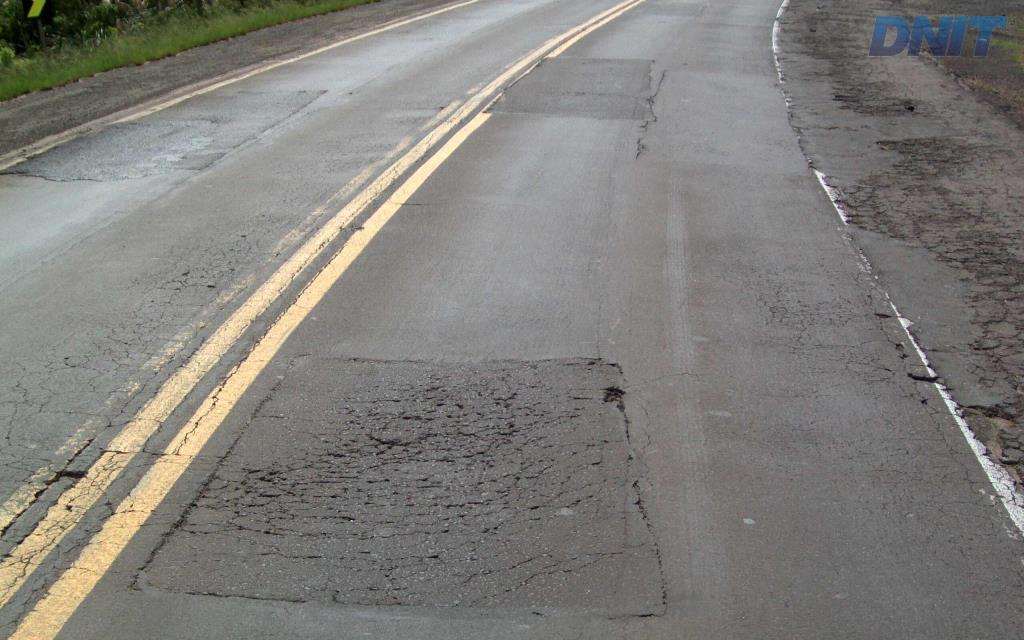crack: (161, 473, 219, 537), (390, 381, 464, 423), (443, 386, 518, 422), (871, 310, 910, 370), (598, 384, 630, 440)
pothole: (596, 382, 632, 412), (903, 365, 934, 389), (890, 338, 910, 361), (645, 95, 660, 116), (869, 309, 893, 320)
